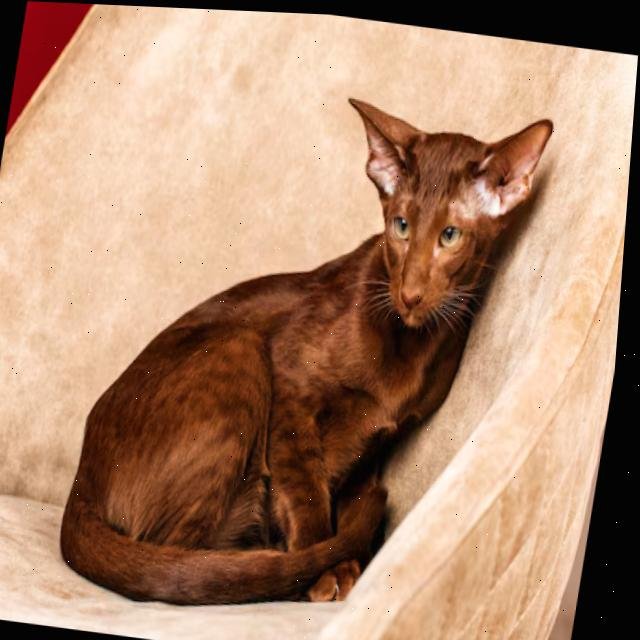Oriental: (54, 51, 560, 640)
